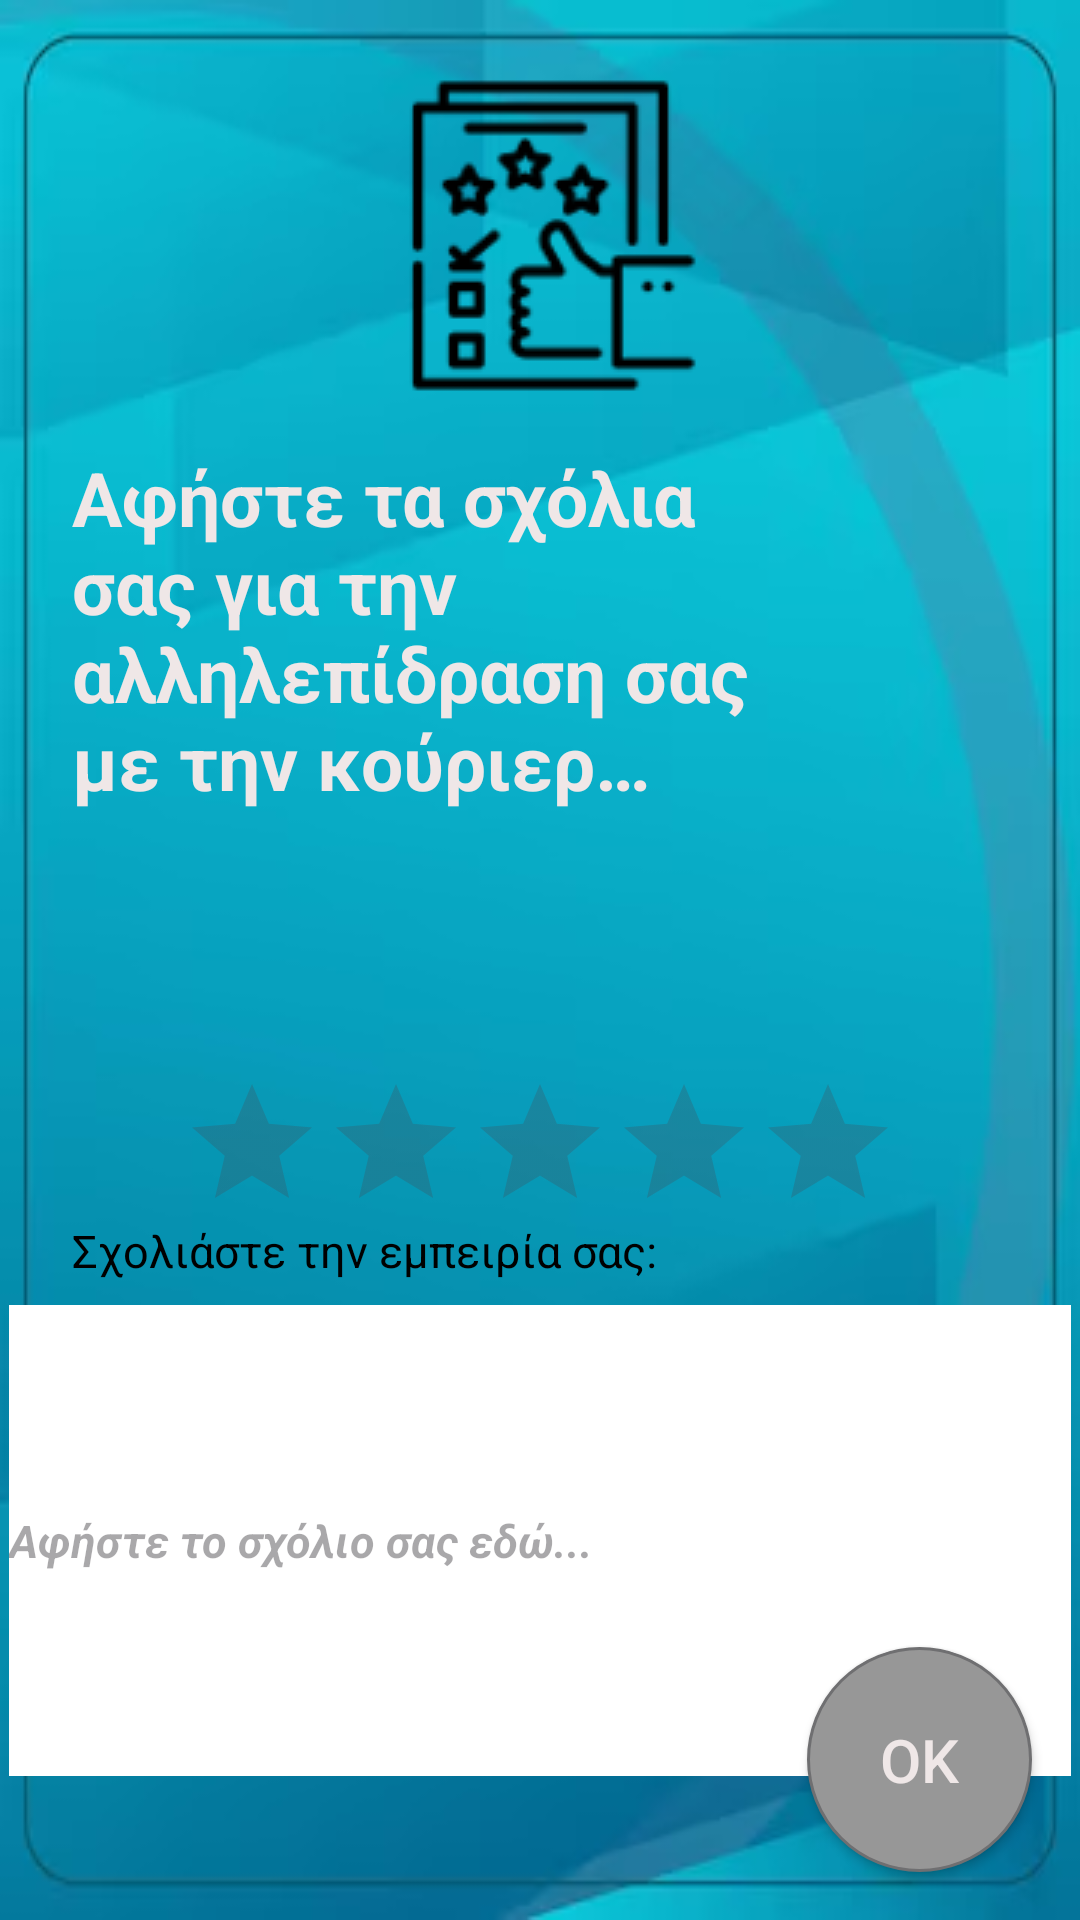

Screen size 1080*1920. Icon name, then its box in pixels as (x1, y1, x2, y2):
eval: (411, 72, 696, 391)
